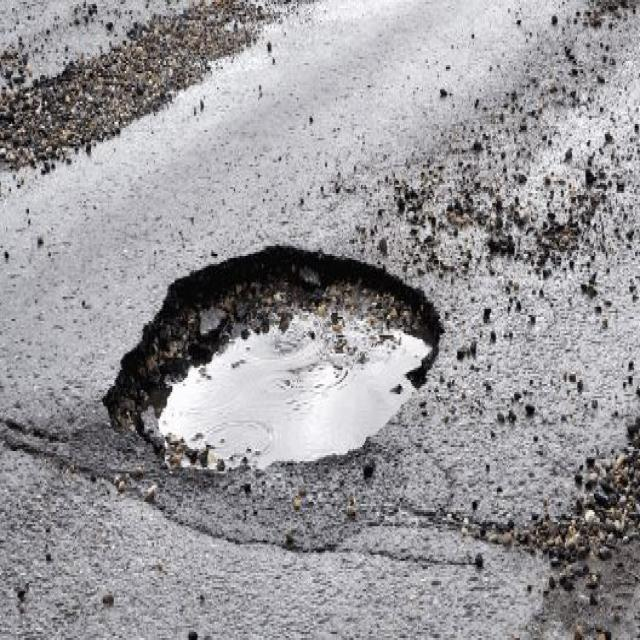pothole: (101, 246, 444, 474)
